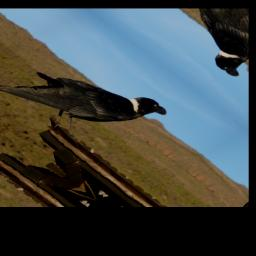Crow: (0, 41, 174, 157)
